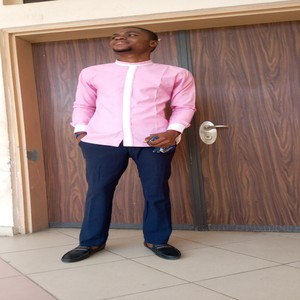Fulokoja_male_student: (78, 27, 181, 259)
